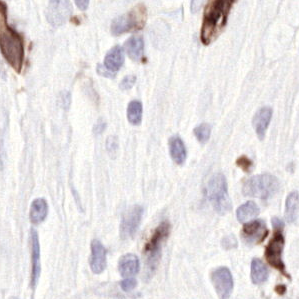Lymphocyte: (263, 233, 292, 278)
